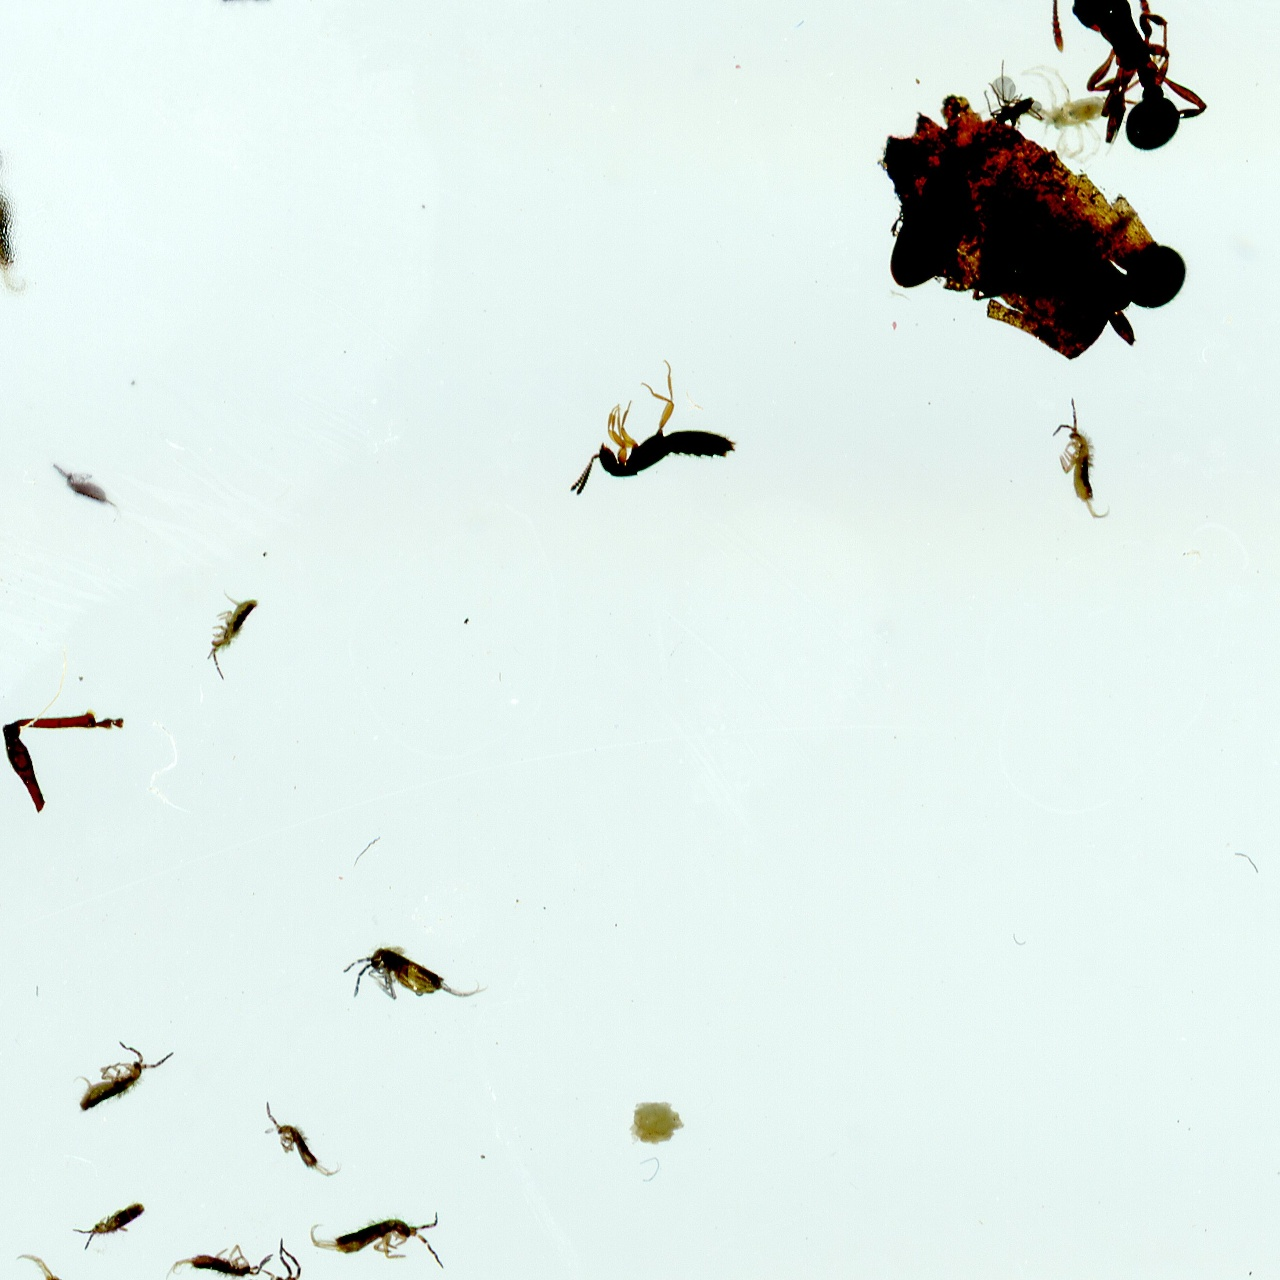arthropod: (1032, 0, 1220, 171), (565, 353, 749, 504), (55, 1006, 185, 1138), (1017, 62, 1111, 165), (334, 941, 492, 1002), (306, 1209, 452, 1274), (175, 1214, 318, 1280), (1049, 390, 1117, 527), (191, 584, 272, 688), (258, 1090, 348, 1181), (0, 139, 38, 298), (46, 459, 132, 522), (980, 57, 1046, 137), (161, 1240, 277, 1280), (71, 1196, 150, 1249), (10, 1250, 124, 1280)
